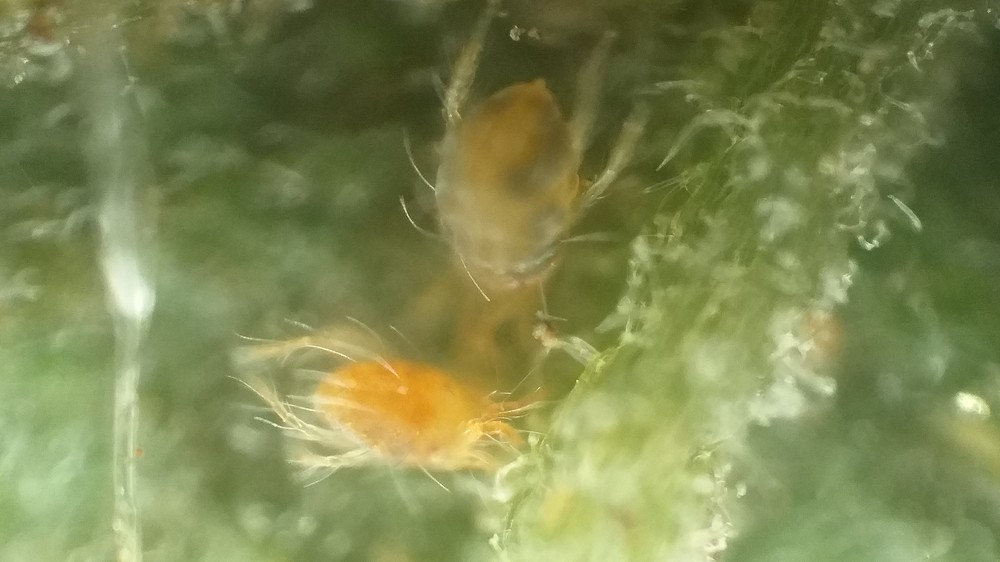Aracnido Rojo: (372, 3, 657, 387), (217, 297, 568, 513)
